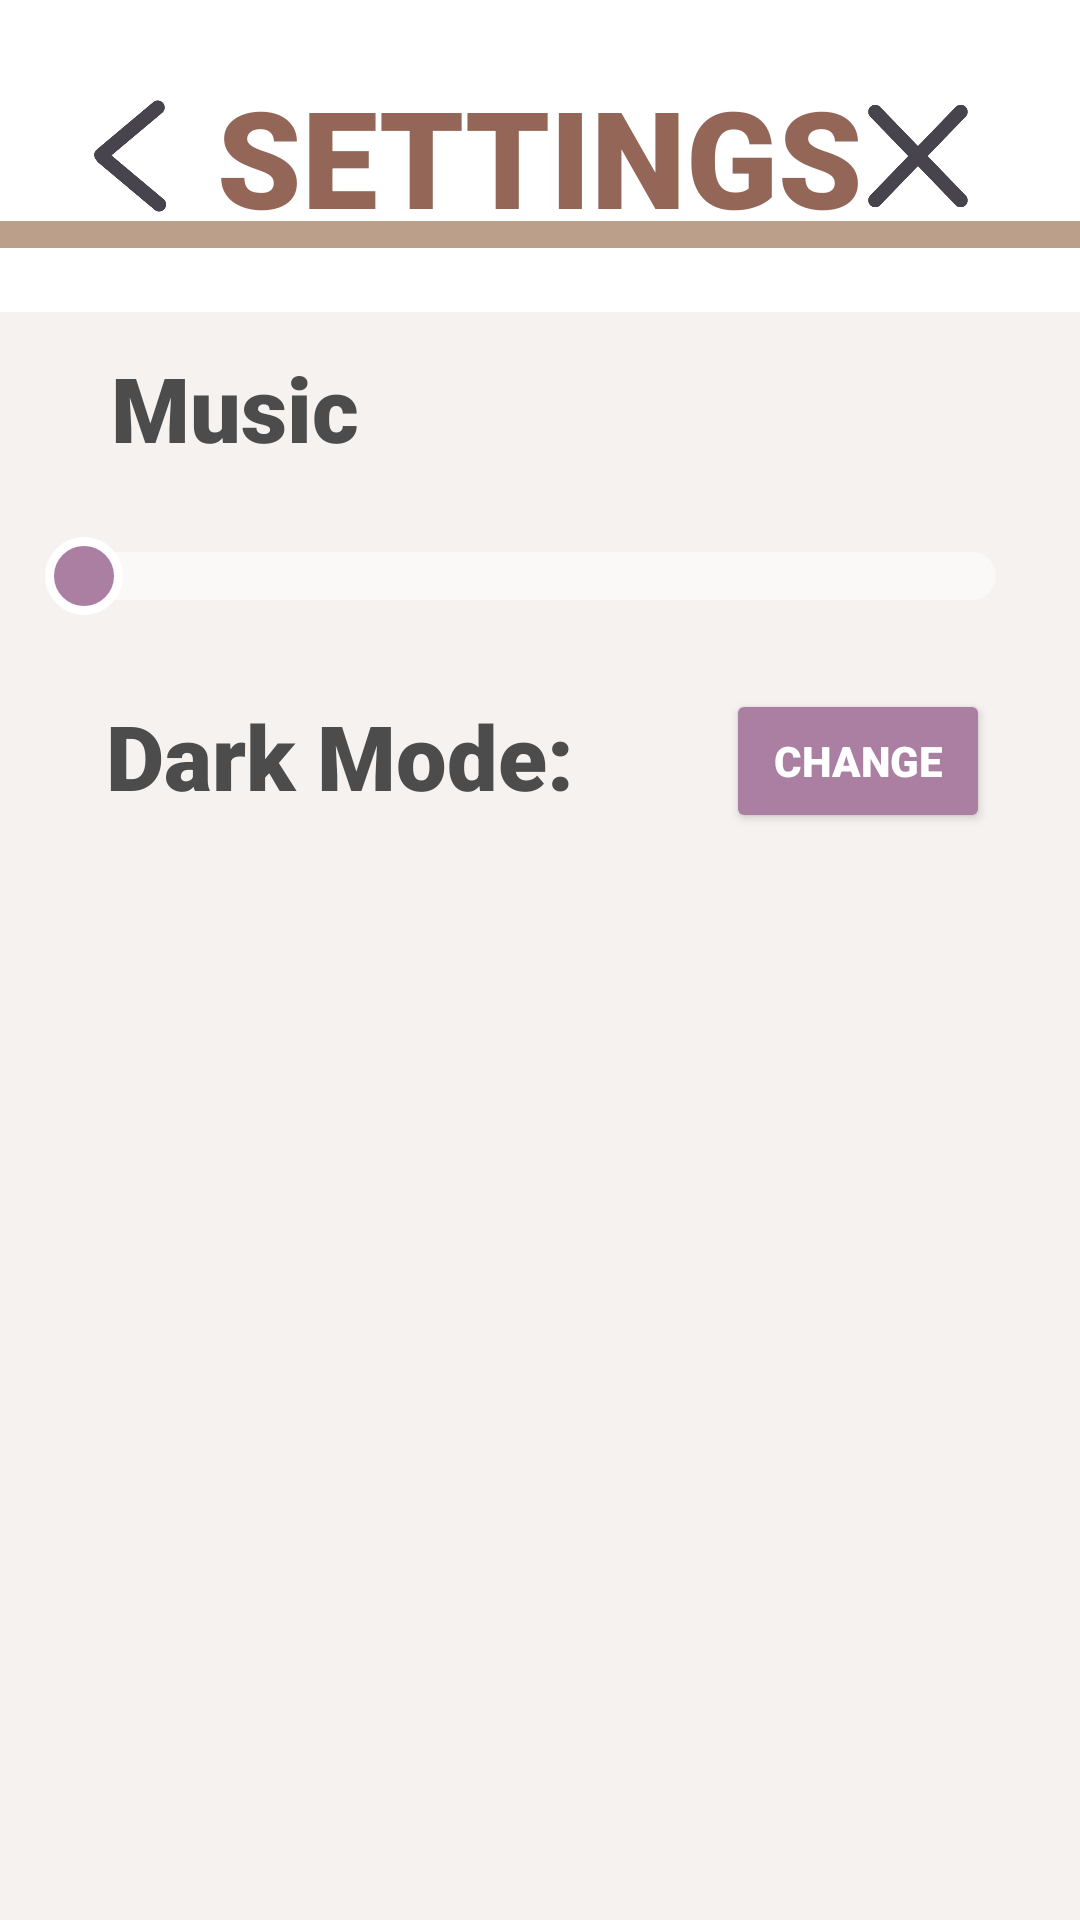

Locate icon controls on the screen. Image size 1080px×1920px, boxes as [x1, y1, x2, y2].
Back Button: [40, 100, 220, 246]
exit: [828, 105, 1008, 246]
